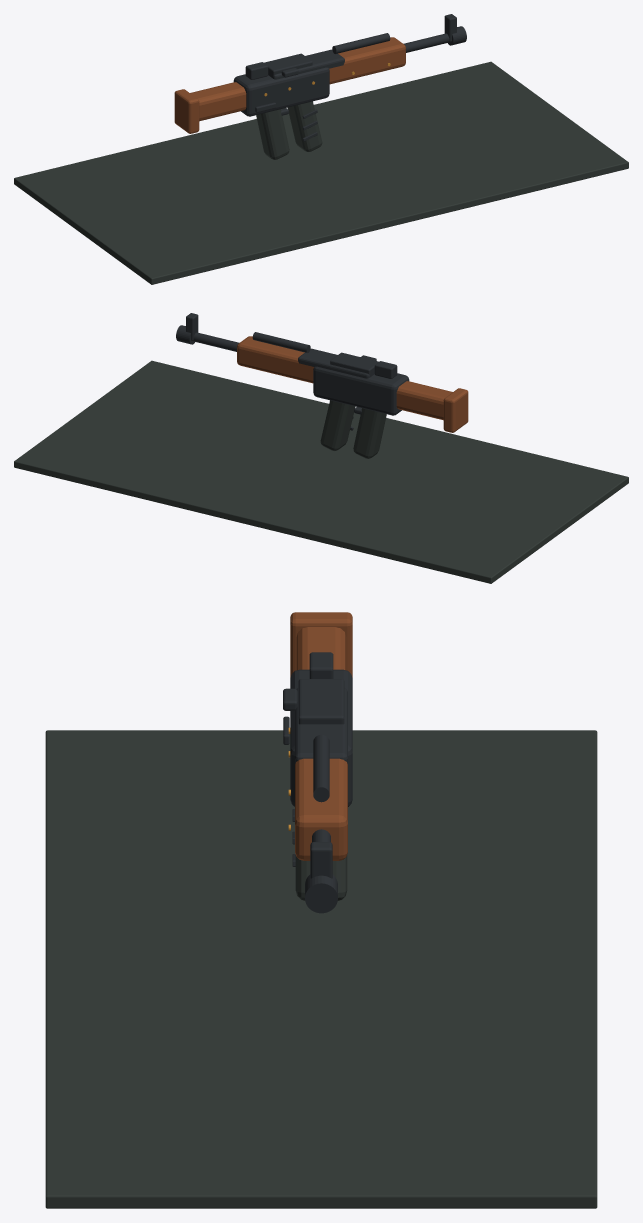
Rendered from ak47_rigged.fbx.
3 renders of one model, top to bottom at view 1: azimuth 30°, elevation 25°; view 2: azimuth 150°, elevation 25°; view 3: azimuth 270°, elevation 25°, orthographic. The views are drawn at different scales.
Parts seen in each view (by area): view 1: DisplayGround, Receiver, WoodHandguard, WoodStock, PistolGrip, Magazine, StockButt, DustCover, BoltCarrier, GasTube, Barrel; view 2: DisplayGround, Receiver, WoodHandguard, WoodStock, Magazine, PistolGrip, StockButt, DustCover, BoltCarrier, GasTube, Barrel; view 3: DisplayGround, WoodHandguard, BoltCarrier, DustCover, WoodStock, StockButt, Receiver, MuzzleBrake, GasTube, Magazine, FrontSight.
Part boxes in pixels (left/top/right/bottom): DisplayGround: left=14, top=61, right=628, bottom=284; Receiver: left=233, top=67, right=329, bottom=116; WoodHandguard: left=329, top=37, right=405, bottom=84; WoodStock: left=190, top=82, right=246, bottom=121; PistolGrip: left=256, top=109, right=289, bottom=159; Magazine: left=287, top=101, right=322, bottom=151; StockButt: left=174, top=89, right=199, bottom=133; DustCover: left=268, top=49, right=344, bottom=79; BoltCarrier: left=264, top=53, right=312, bottom=77; GasTube: left=332, top=33, right=390, bottom=53; Barrel: left=403, top=33, right=450, bottom=52; DisplayGround: left=14, top=360, right=628, bottom=583; Receiver: left=313, top=366, right=409, bottom=415; WoodHandguard: left=237, top=336, right=313, bottom=383; WoodStock: left=396, top=381, right=452, bottom=420; Magazine: left=320, top=400, right=355, bottom=450; PistolGrip: left=353, top=408, right=386, bottom=458; StockButt: left=443, top=388, right=468, bottom=432; DustCover: left=298, top=348, right=374, bottom=378; BoltCarrier: left=330, top=352, right=378, bottom=375; GasTube: left=252, top=332, right=310, bottom=352; Barrel: left=192, top=332, right=239, bottom=351; DisplayGround: left=45, top=730, right=597, bottom=1208; WoodHandguard: left=295, top=758, right=347, bottom=860; BoltCarrier: left=298, top=679, right=344, bottom=724; DustCover: left=295, top=688, right=347, bottom=763; WoodStock: left=296, top=627, right=346, bottom=670; StockButt: left=290, top=612, right=352, bottom=677; Receiver: left=290, top=669, right=352, bottom=806; MuzzleBrake: left=305, top=874, right=337, bottom=913; GasTube: left=313, top=734, right=329, bottom=802; Magazine: left=295, top=855, right=347, bottom=900; FrontSight: left=310, top=842, right=332, bottom=878.
Size of the model in its own units: 12 by 3.09 by 6.
